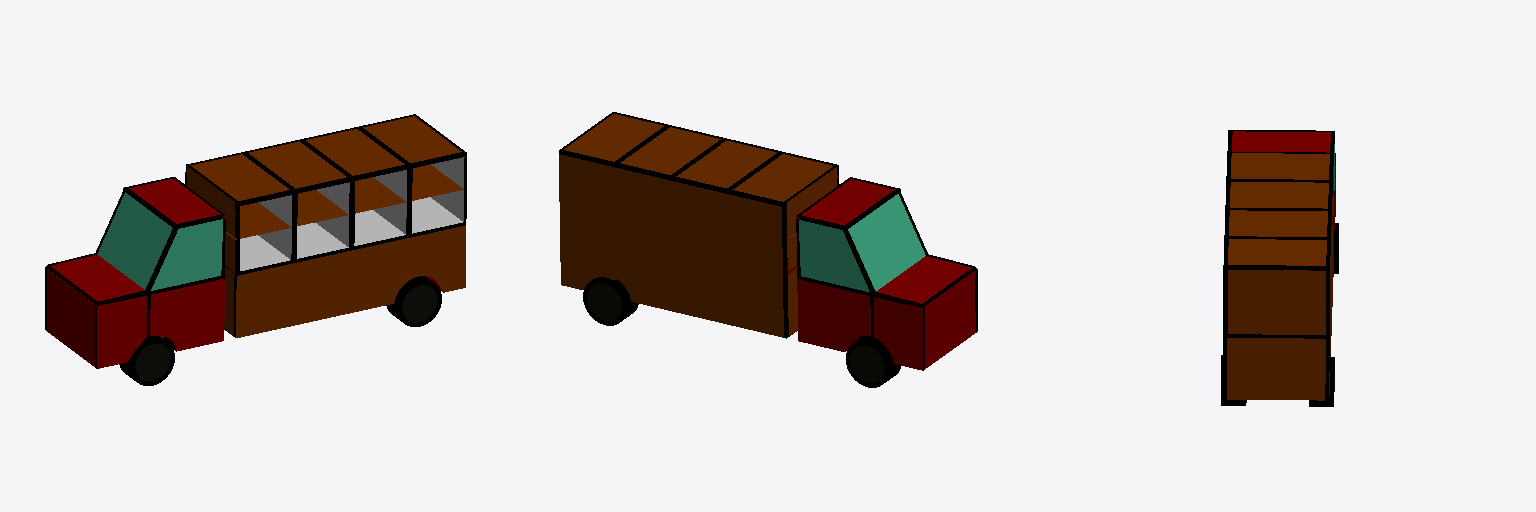
File: TRUCKKKKl.obj
3 views of the same model, side by side, from view 1: azimuth 30°, elevation 25°; view 2: azimuth 150°, elevation 25°; view 3: azimuth 270°, elevation 25° (orthographic).
Visible parts, largest first — view 1: Cube; view 2: Cube; view 3: Cube.
Part boxes in pixels (x1,y1,x2,y2): Cube: (45, 114, 466, 385); Cube: (559, 112, 977, 387); Cube: (1221, 130, 1338, 406).
Bounding box in the file's own units: 3122 × 1338 × 868.